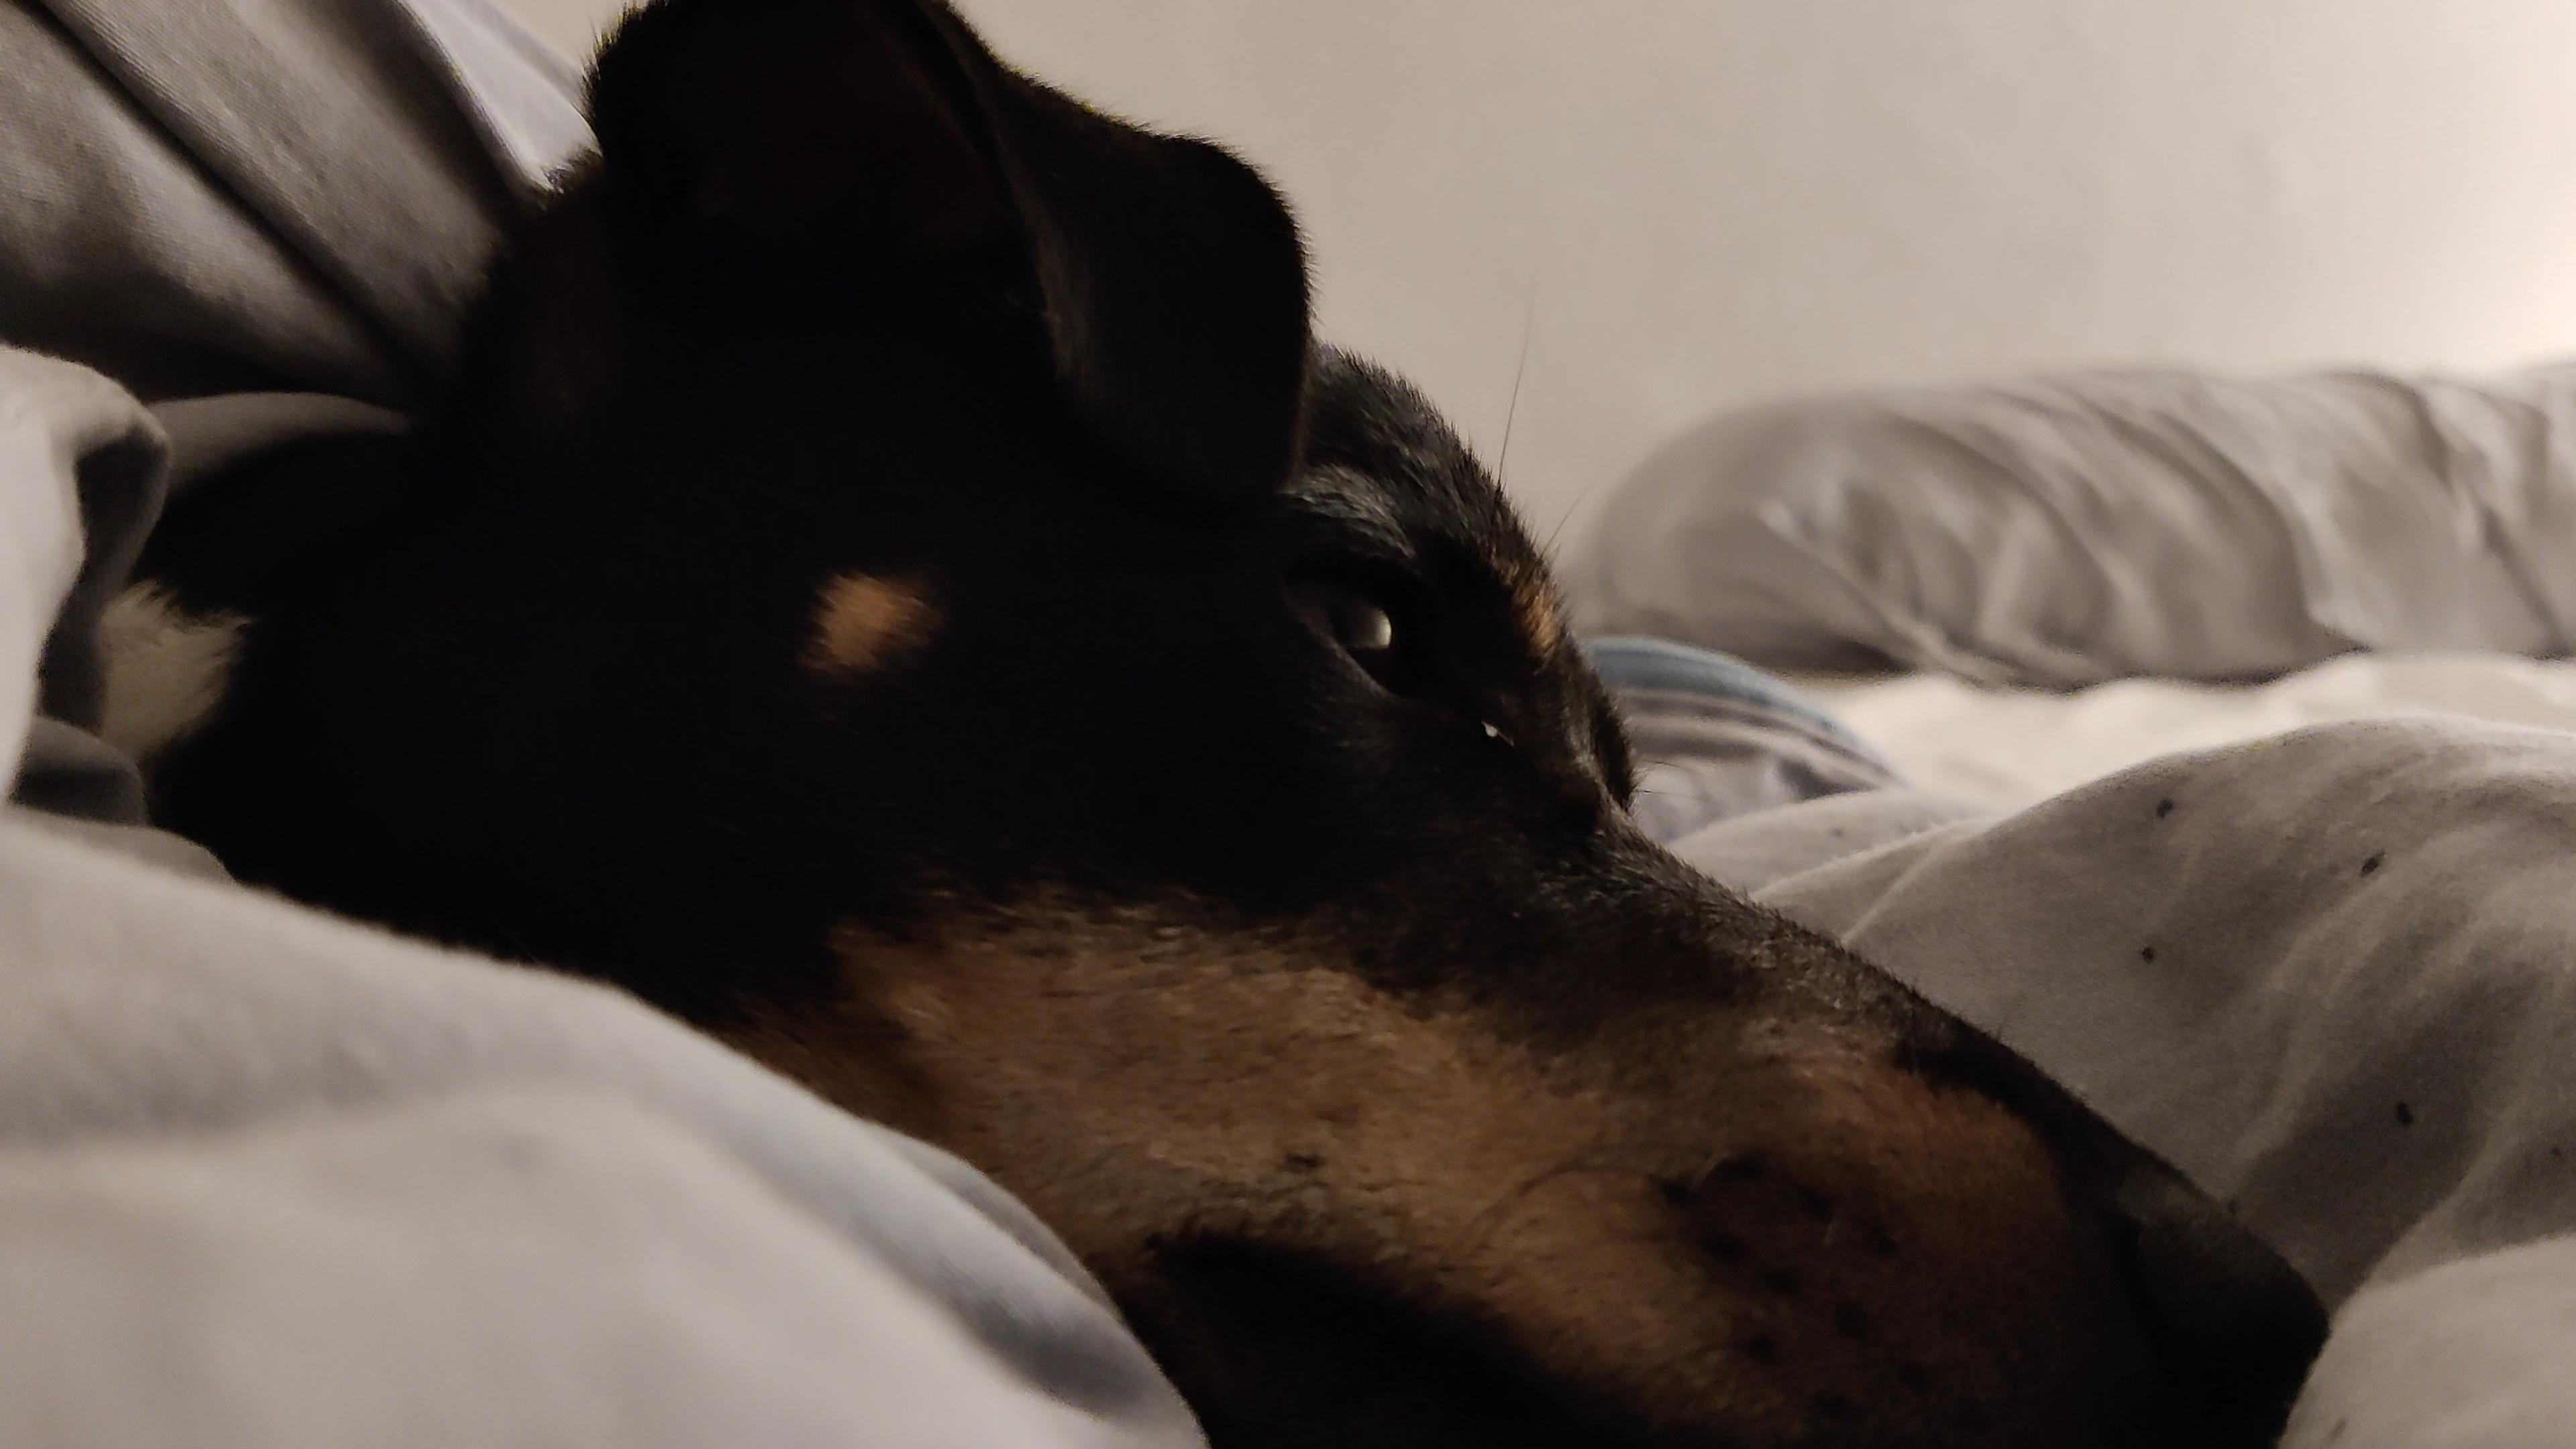Dog: (99, 0, 2342, 1449)
